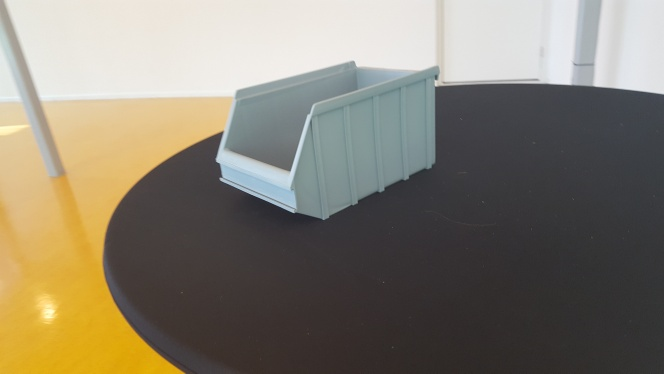tray_right: (290, 62, 440, 222)
